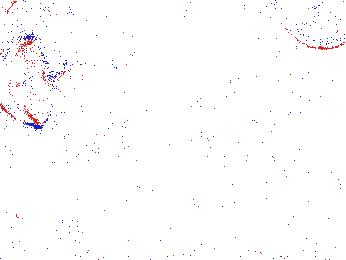moon jellyfish: (83, 1, 192, 59), (1, 38, 53, 128), (273, 1, 346, 51)
